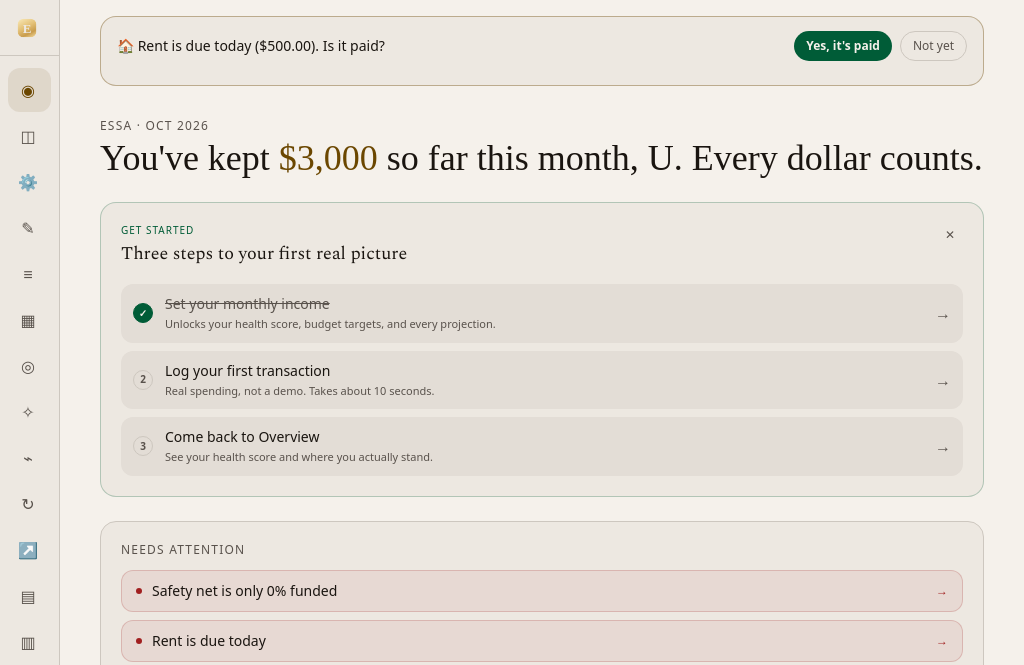
Test: an edit made right after Budget's first render, before its effect runs, is kept, and the heal is saved on top of it
This screenshot has width=1024, height=665.
Expected: the element named "Payment reminder" is shown, [100, 16, 984, 86]
Click the button named "Budget" at (30, 136), box [8, 114, 51, 158]
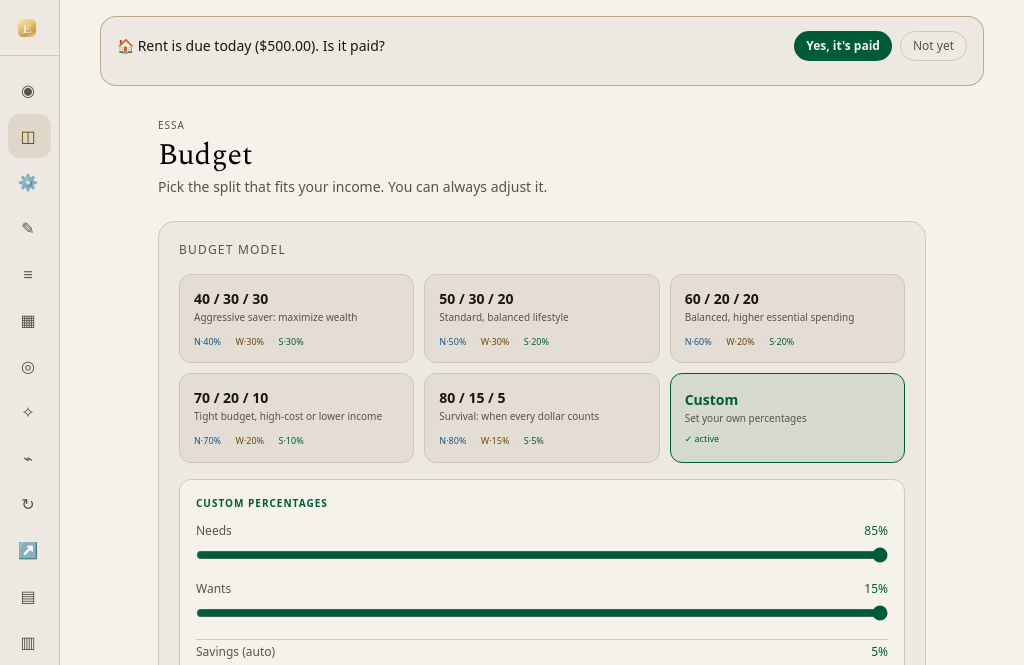
Click the button "Yes, it's paid" at (843, 46), box [794, 31, 892, 61]
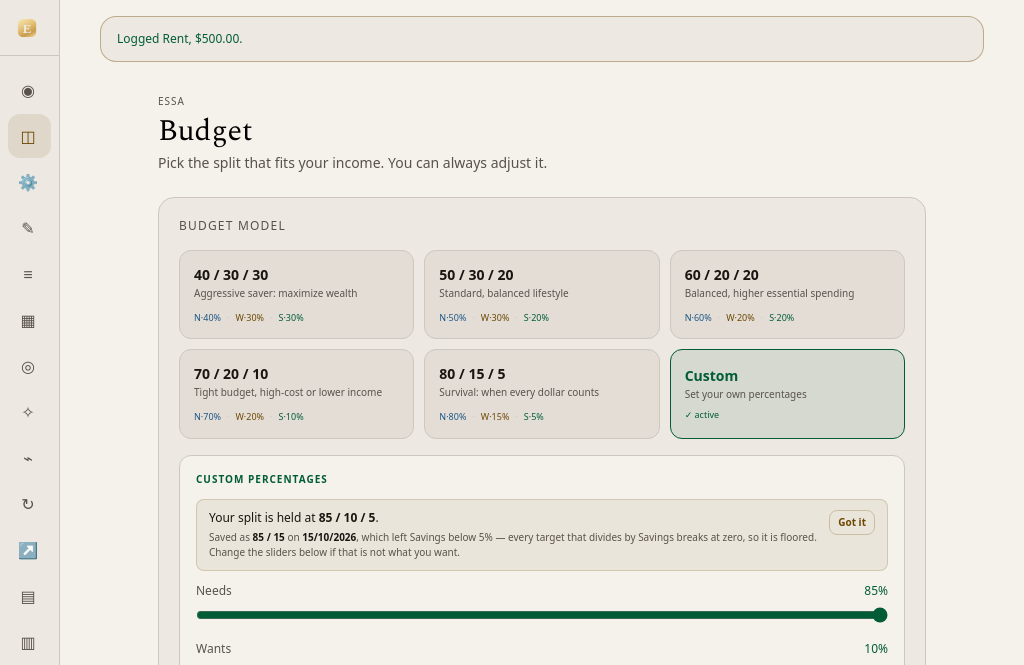
Now the text "Rent is due today ($500.00). Is it paid?" is gone
